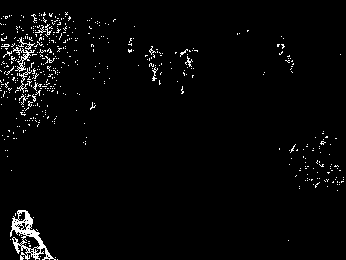person: (10, 207, 54, 259)
